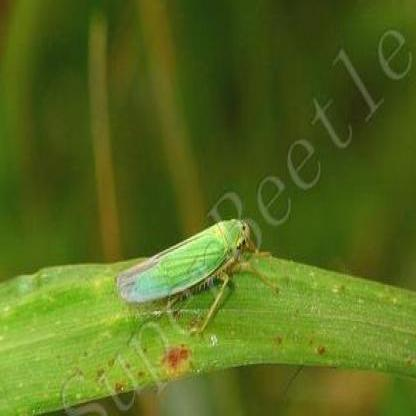Green-Leafhopper: (115, 214, 270, 330)
